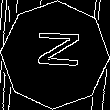N_W: (29, 34, 81, 76)
